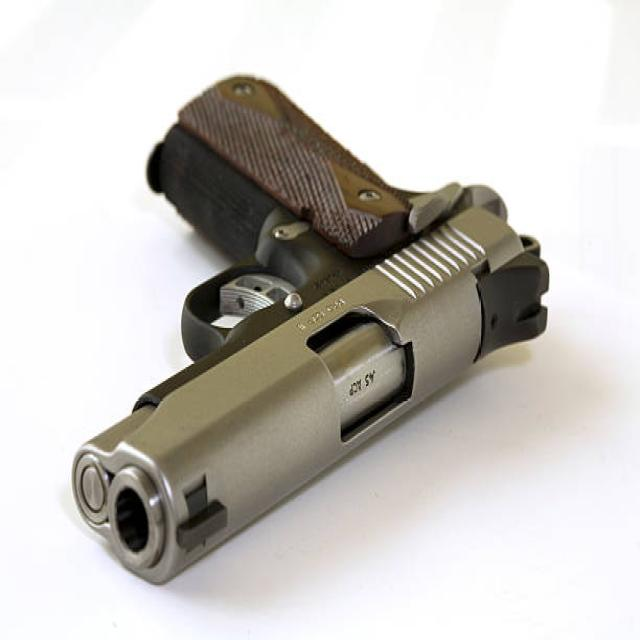pistol: (58, 66, 560, 587)
